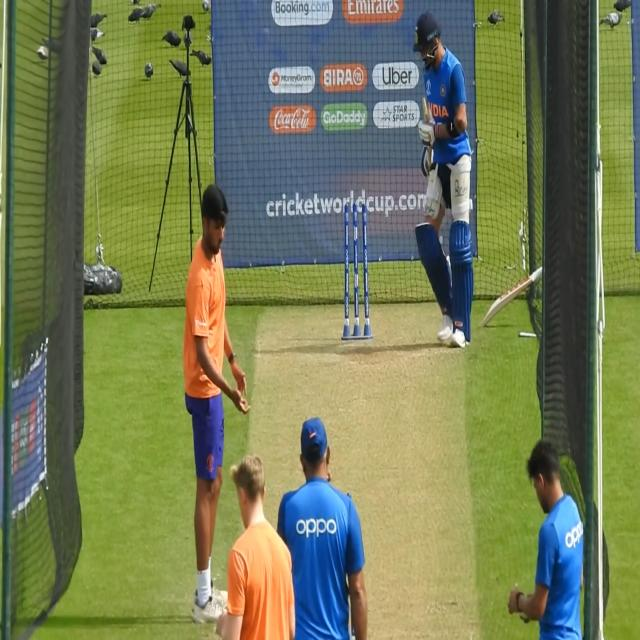stump: (342, 202, 373, 344)
